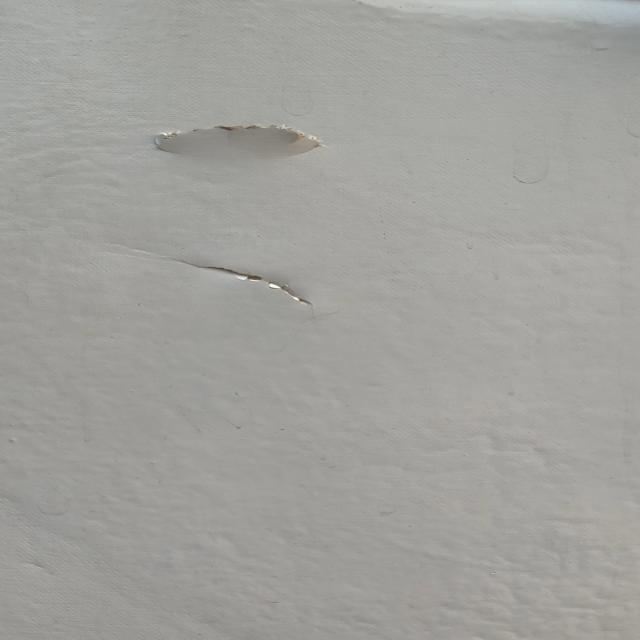Scratches: (141, 237, 336, 328), (120, 108, 340, 175)
